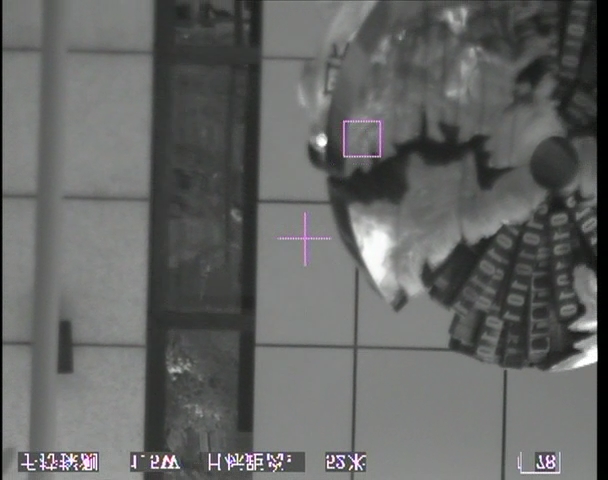my: (314, 131, 328, 149)
